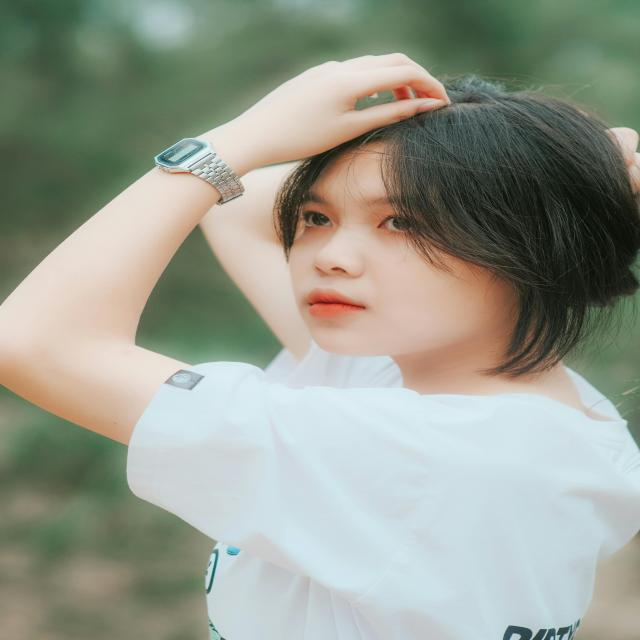relogio: (150, 136, 248, 207)
